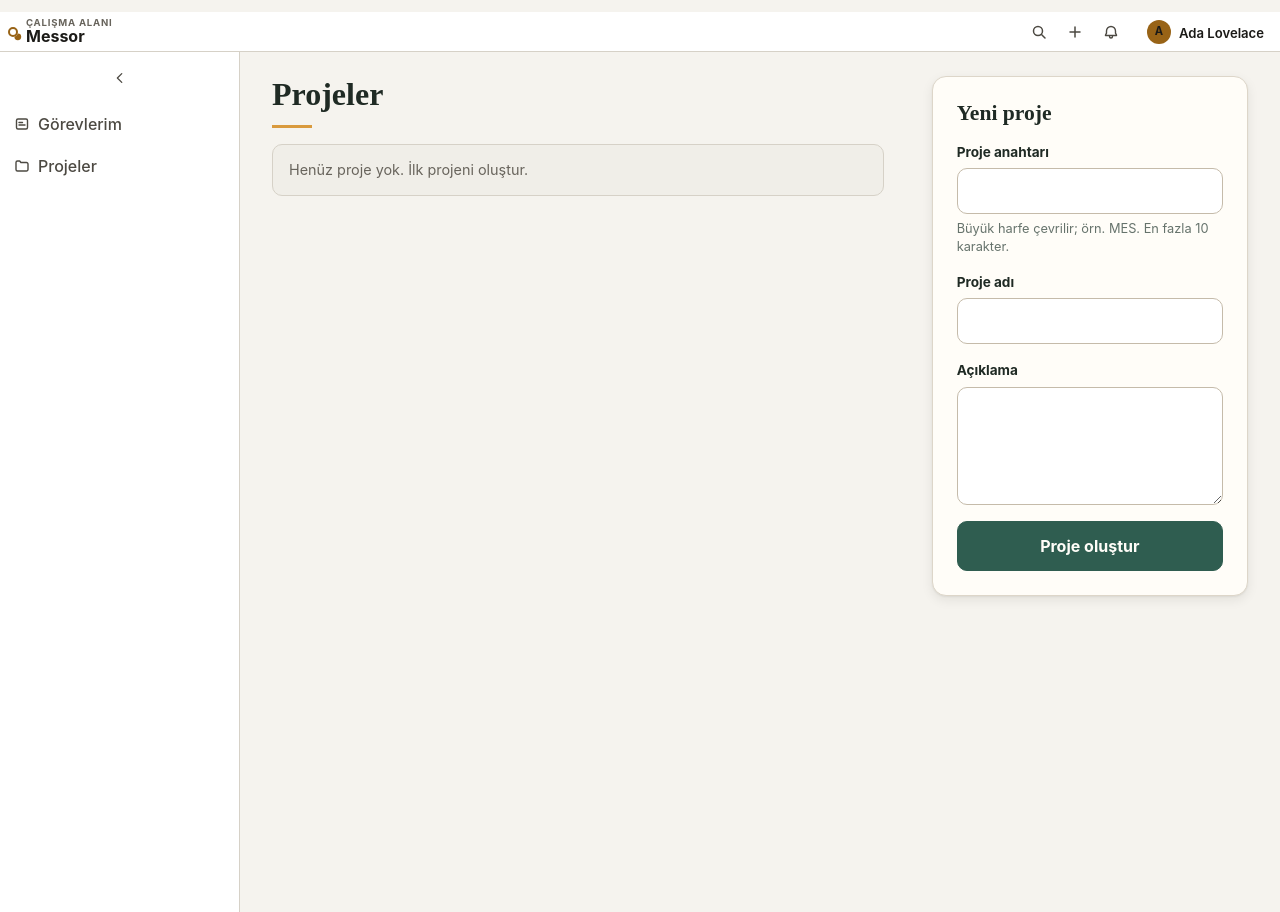
Scenario: authenticated shell › collapses and expands the project rail via the toggle
Expected: the heading "Projeler" is shown, x1=272 y1=76 x2=383 y2=112
Click the button named "Proje çubuğunu daralt".
click(120, 78)  # box x1=6 y1=58 x2=233 y2=98
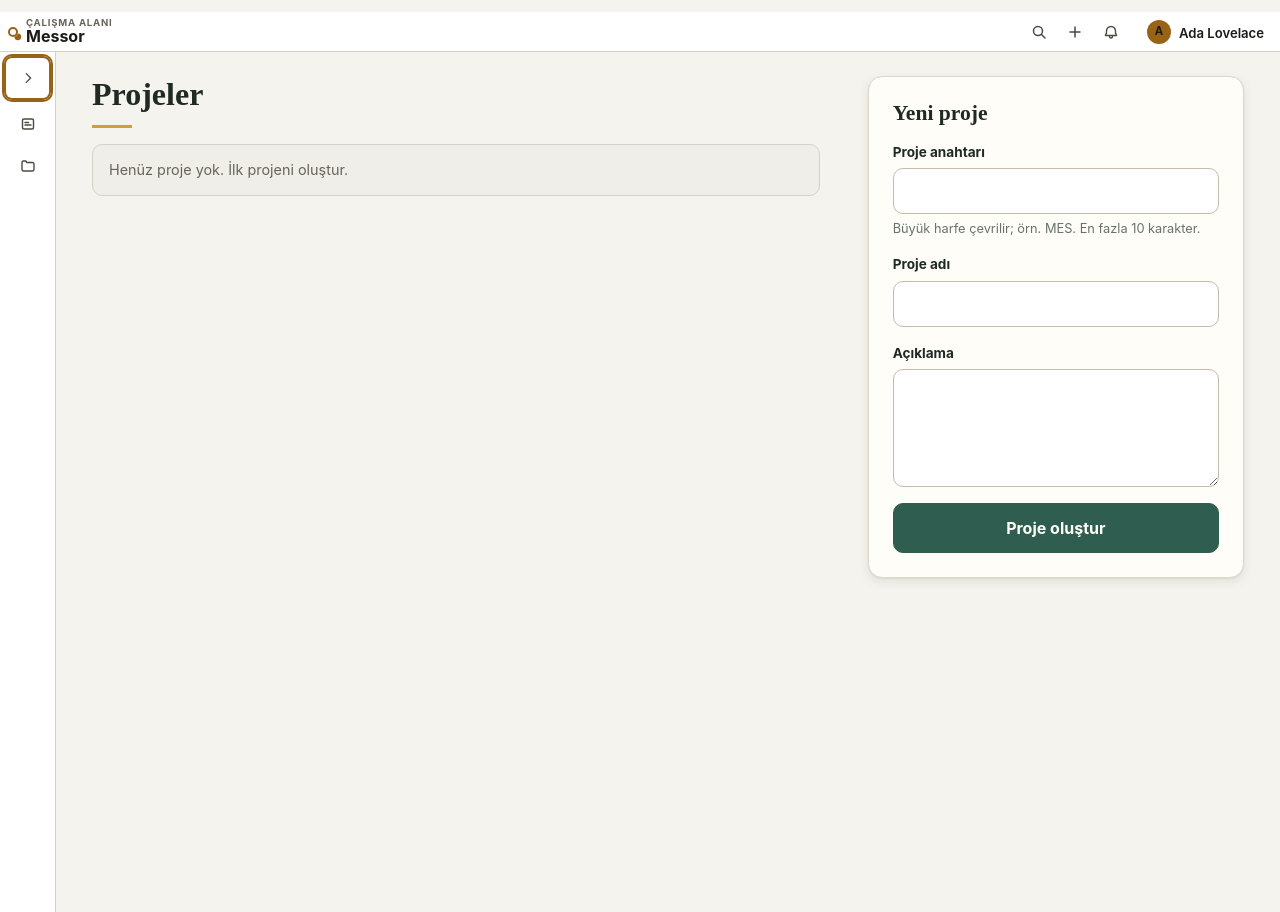
Click the button named "Proje çubuğunu genişlet".
click(28, 78)  # box x1=6 y1=58 x2=49 y2=98
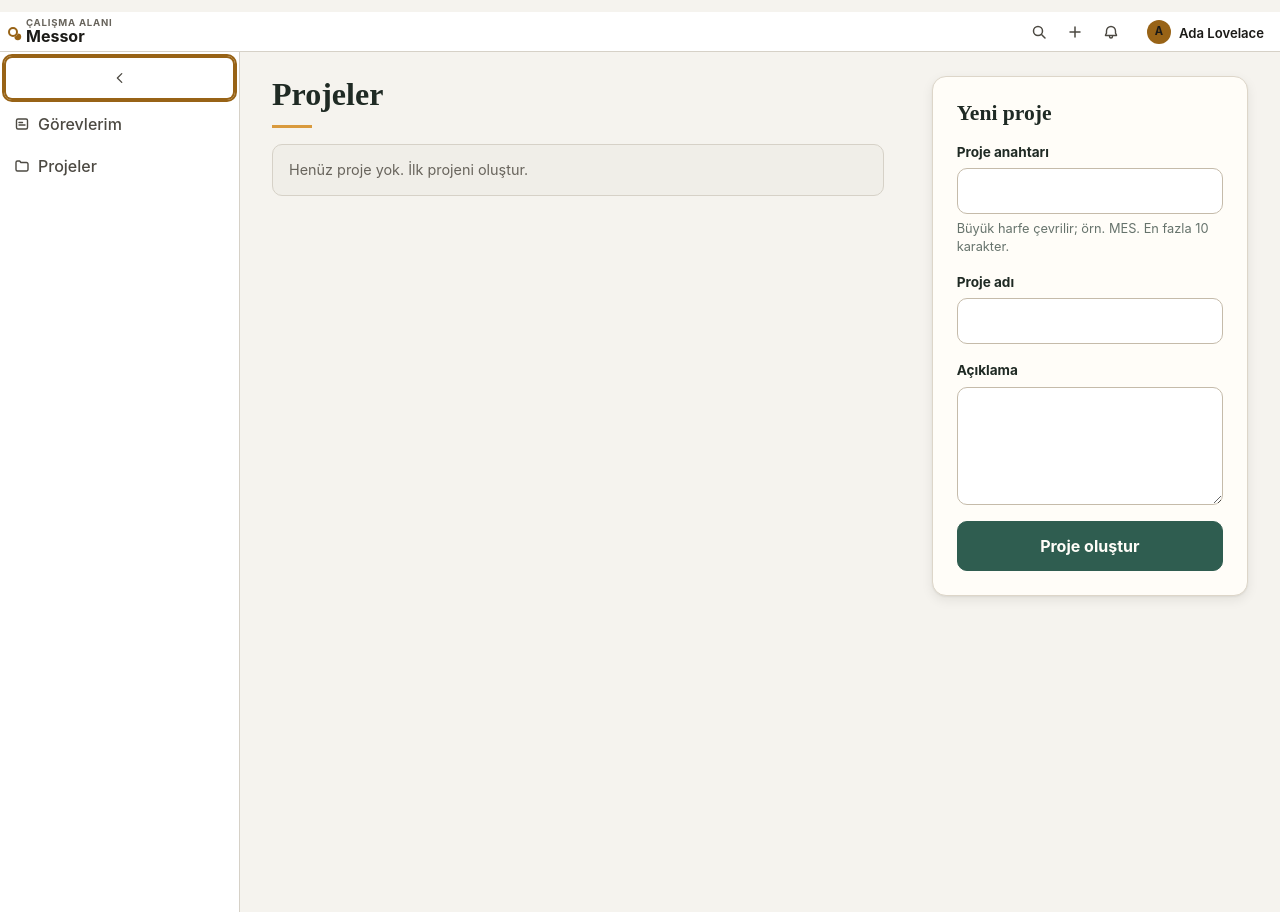
Result: the button named "Proje çubuğunu daralt" is expanded at x1=6 y1=58 x2=233 y2=98
